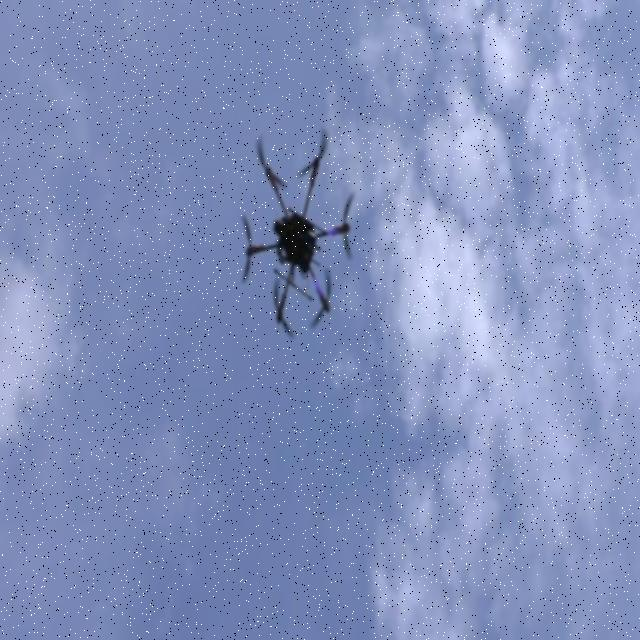UAV: (238, 146, 355, 338)
